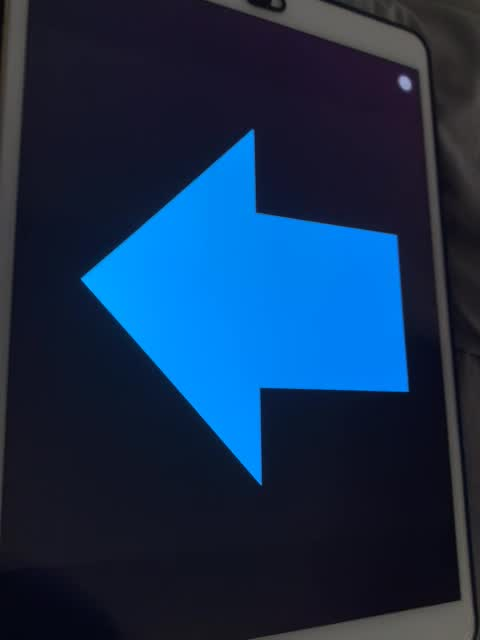left: (73, 108, 413, 498)
